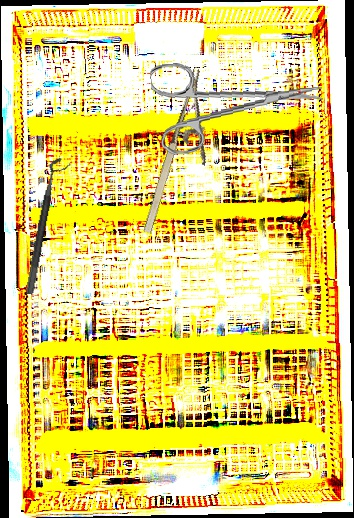Fixation Ring: (24, 155, 72, 298)
Iris Scissors: (149, 50, 327, 157)
Needle Holder: (138, 67, 234, 244)
